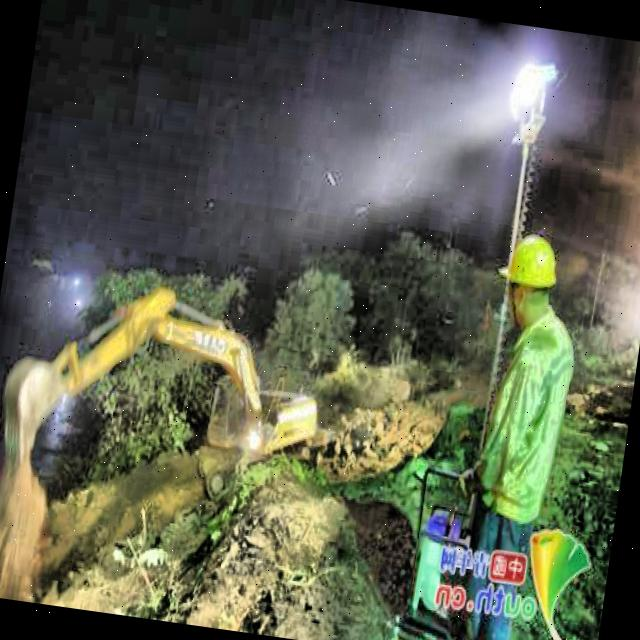helmet: (496, 225, 566, 328)
